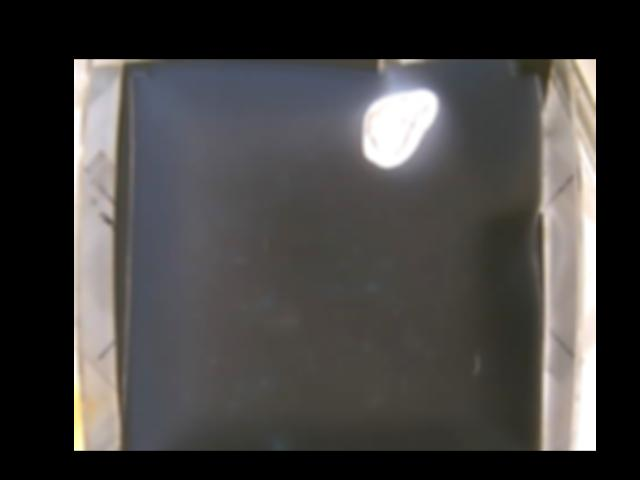Pebble: (362, 87, 437, 167)
